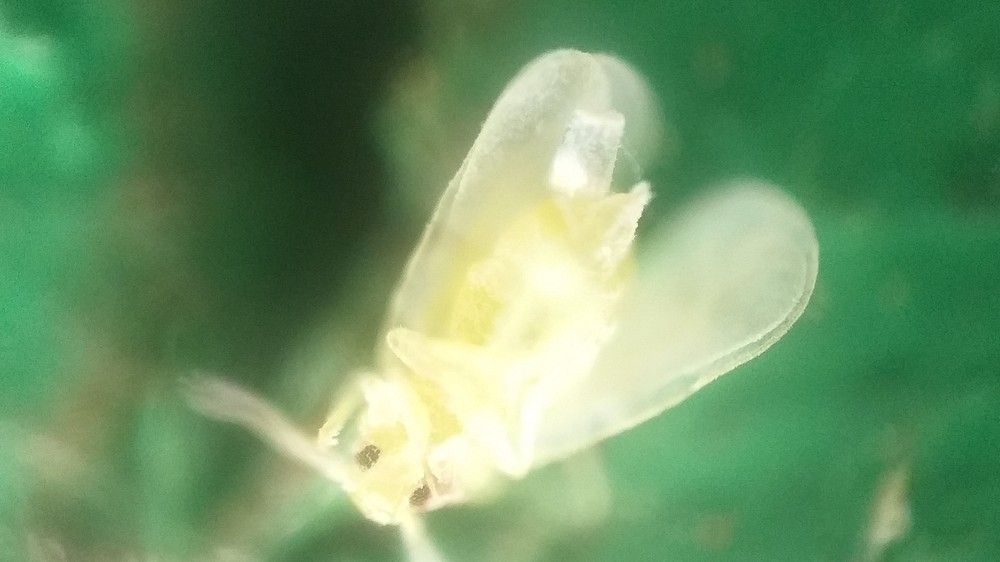Mosca Blanca: (174, 45, 828, 562)
